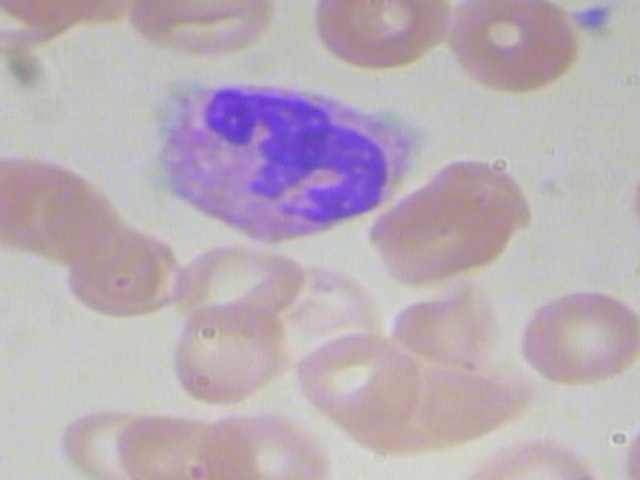Platelets: (567, 0, 616, 40)
RBC: (365, 153, 543, 290), (437, 0, 588, 100), (288, 324, 423, 433), (160, 300, 294, 409), (512, 280, 640, 387), (62, 223, 195, 315), (306, 0, 457, 74), (126, 0, 281, 67), (201, 404, 335, 480), (109, 404, 242, 480), (0, 0, 120, 59), (624, 403, 640, 480), (630, 156, 640, 249)
WBC: (141, 67, 453, 248)
